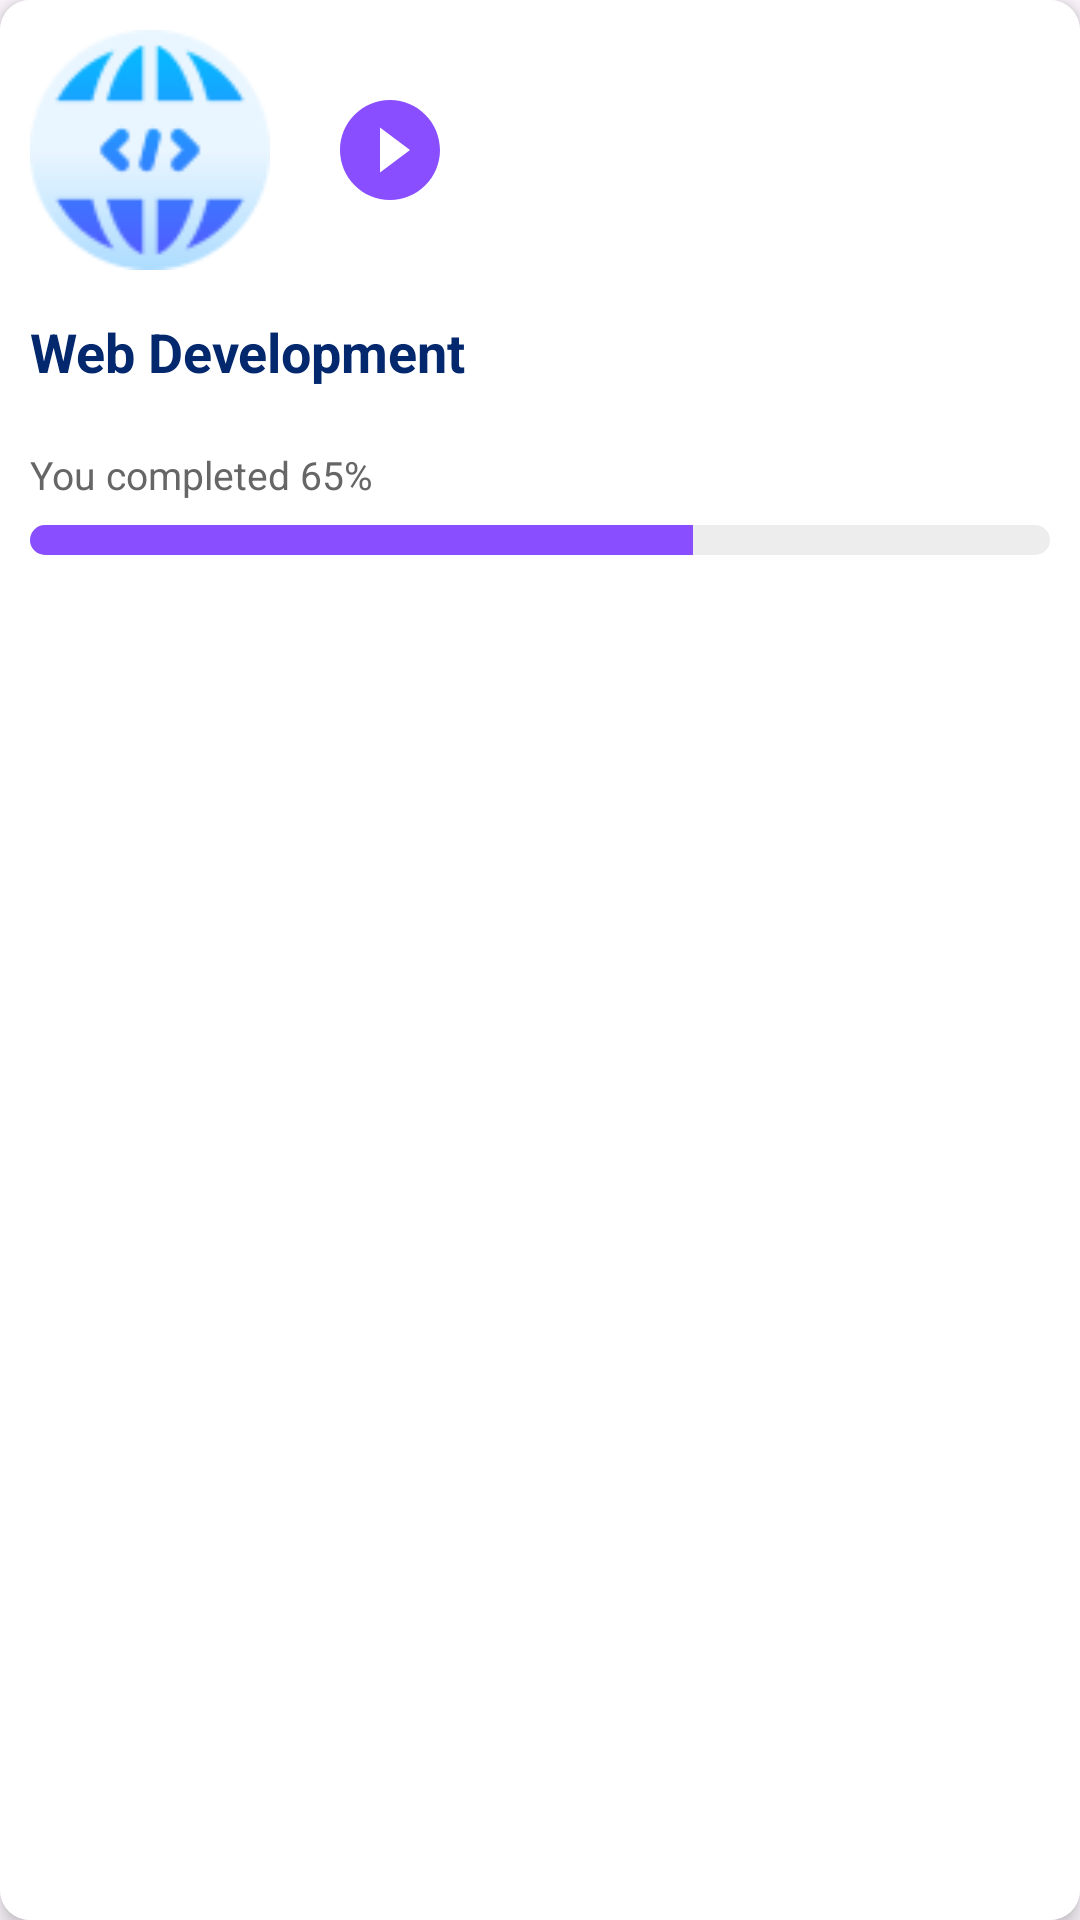

Icons on this 1080 × 1920 Android screen, each with its box as [x1, y1, x2, y2]:
bottomnav play: [340, 100, 440, 200]
course web: [32, 44, 268, 270]
